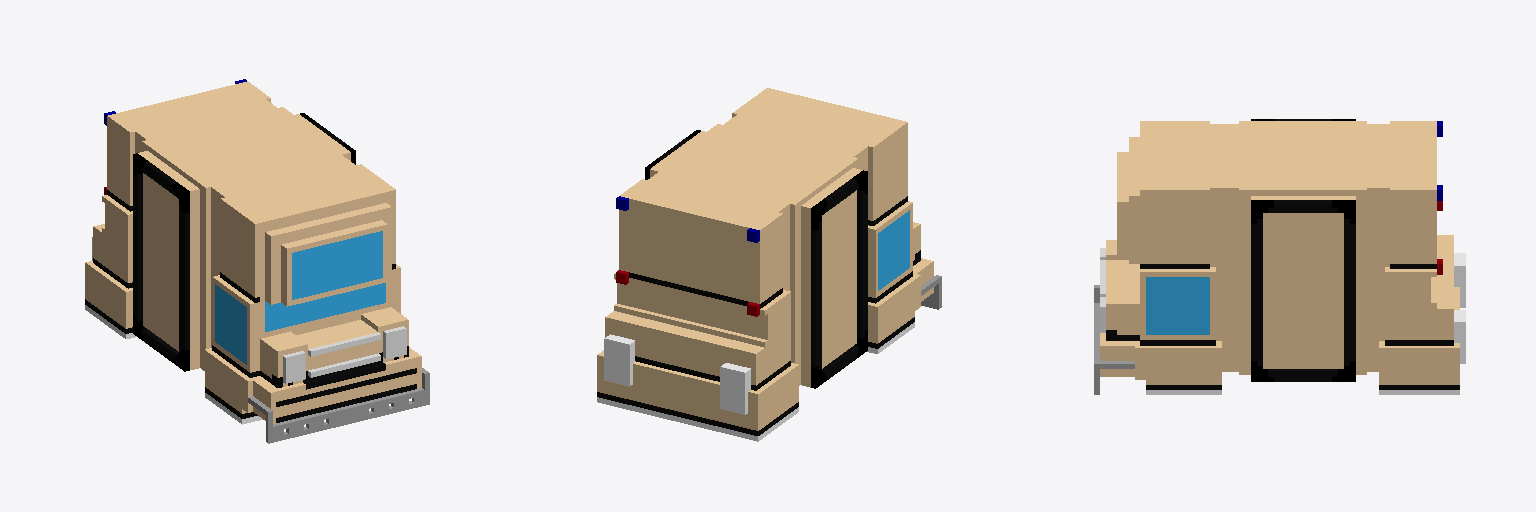
3 renders of one model, left to right at view 1: azimuth 30°, elevation 25°; view 2: azimuth 150°, elevation 25°; view 3: azimuth 270°, elevation 25°, orthographic.
Parts seen in each view (by area): view 1: Car1; view 2: Car1; view 3: Car1.
Part boxes in pixels (x1,y1,x2,y2): Car1: (85, 79, 429, 443); Car1: (597, 88, 941, 441); Car1: (1094, 119, 1465, 394).
Bounding box in the file's own units: 2.14 × 2.39 × 4.03.
Materials: 1 (1 with a texture image).